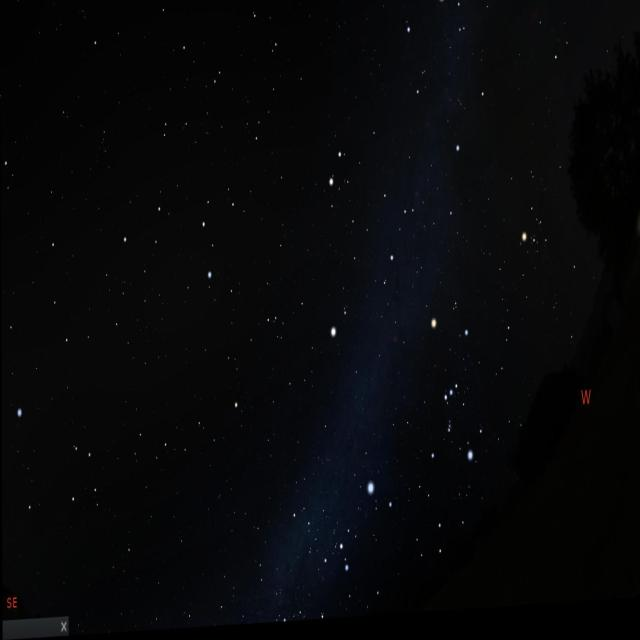canis_major: (320, 462, 411, 591)
canis_minor: (321, 311, 355, 358)
gemini: (314, 137, 416, 292)
leo: (117, 175, 251, 307)
orion: (426, 308, 482, 484)
taurus: (515, 140, 605, 284)
